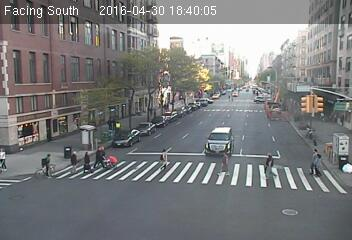neg: (88, 199, 115, 234), (178, 41, 203, 74), (59, 37, 81, 66), (294, 200, 314, 227), (89, 100, 109, 127), (41, 79, 60, 105), (270, 107, 288, 131), (261, 192, 279, 216), (102, 60, 120, 83), (135, 200, 153, 223), (23, 191, 40, 215), (59, 197, 76, 220), (174, 208, 190, 230), (237, 88, 253, 109), (136, 104, 150, 123), (267, 47, 281, 66), (212, 121, 226, 139), (179, 110, 192, 128), (299, 103, 312, 121), (33, 110, 46, 128), (225, 49, 238, 66), (139, 46, 152, 63), (209, 203, 222, 220), (299, 71, 311, 88), (189, 94, 201, 110)
pos: (260, 152, 281, 180), (37, 151, 57, 176), (214, 150, 232, 175), (95, 143, 113, 167), (79, 149, 97, 173), (65, 151, 83, 174), (157, 146, 174, 169), (313, 154, 328, 174), (307, 147, 320, 164)
